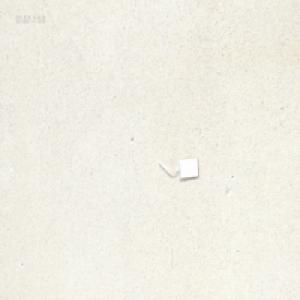LuggageTag: (157, 155, 198, 181)
